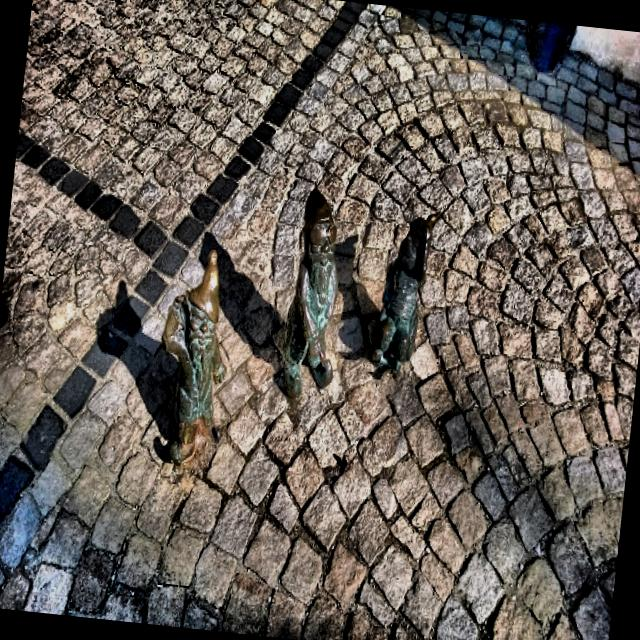Gluchak: (162, 248, 223, 465)
Slepak: (282, 188, 337, 398)
W-Skers: (372, 216, 436, 373)
